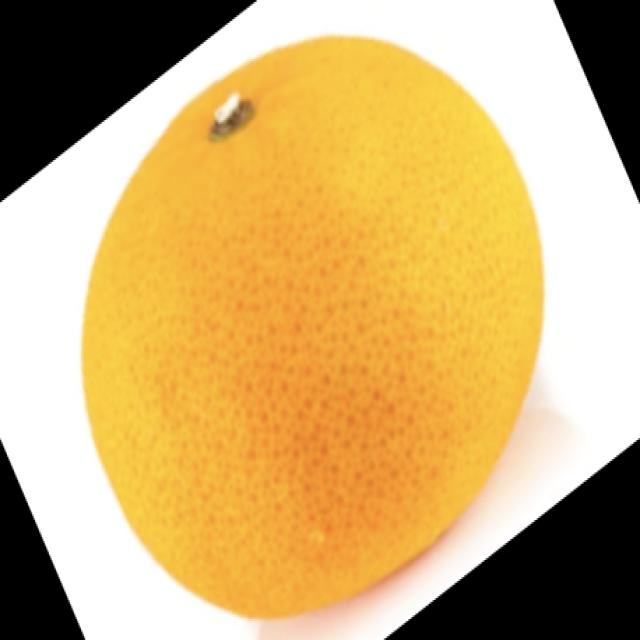matang: (83, 31, 541, 618)
